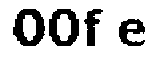0: (11, 6, 46, 49), (50, 6, 80, 51)
e: (117, 13, 149, 50)
f: (83, 5, 104, 48)
